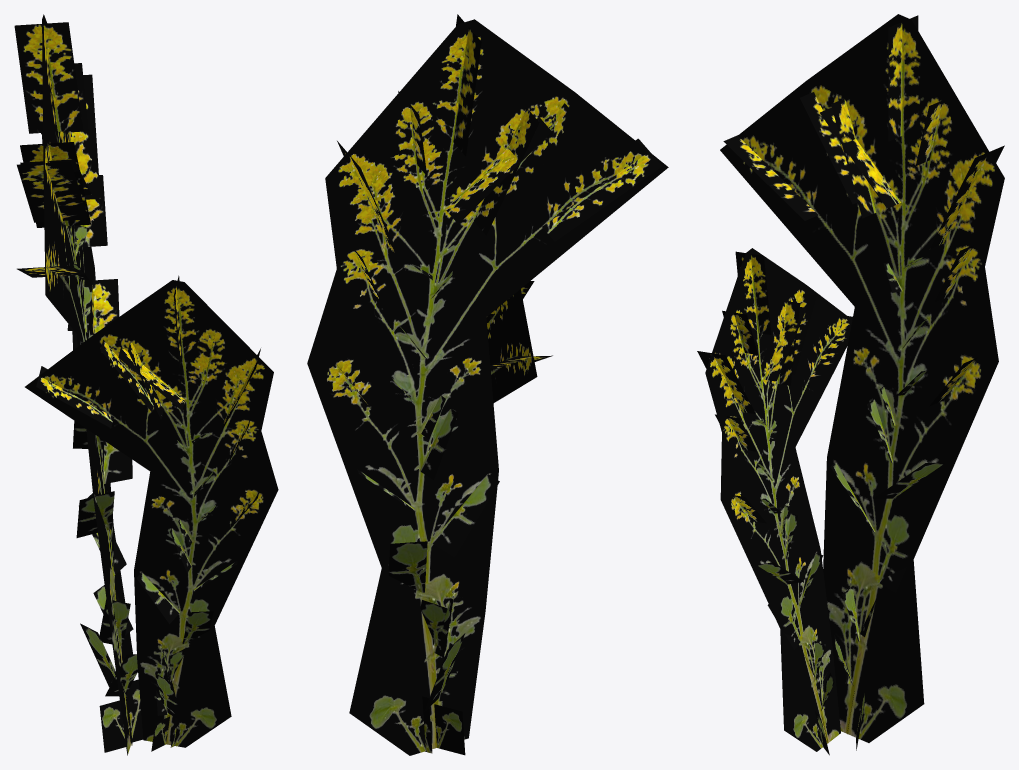
File: 03_barbarea_vulgaris_low_002.fbx
The picture shows the model from 3 angles, left to right: view 1: azimuth 30°, elevation 25°; view 2: azimuth 150°, elevation 25°; view 3: azimuth 270°, elevation 25°; orthographic projection. The views are drawn at different scales.
Visible parts, largest first — view 1: 03_barbarea_vulgaris_low.002; view 2: 03_barbarea_vulgaris_low.002; view 3: 03_barbarea_vulgaris_low.002.
Part boxes in pixels (x1,y1,x2,y2): 03_barbarea_vulgaris_low.002: (14,14,278,755); 03_barbarea_vulgaris_low.002: (307,14,668,755); 03_barbarea_vulgaris_low.002: (697,14,1004,755).
Size of the model in its own units: 0.0727 by 0.2052 by 0.0826.
